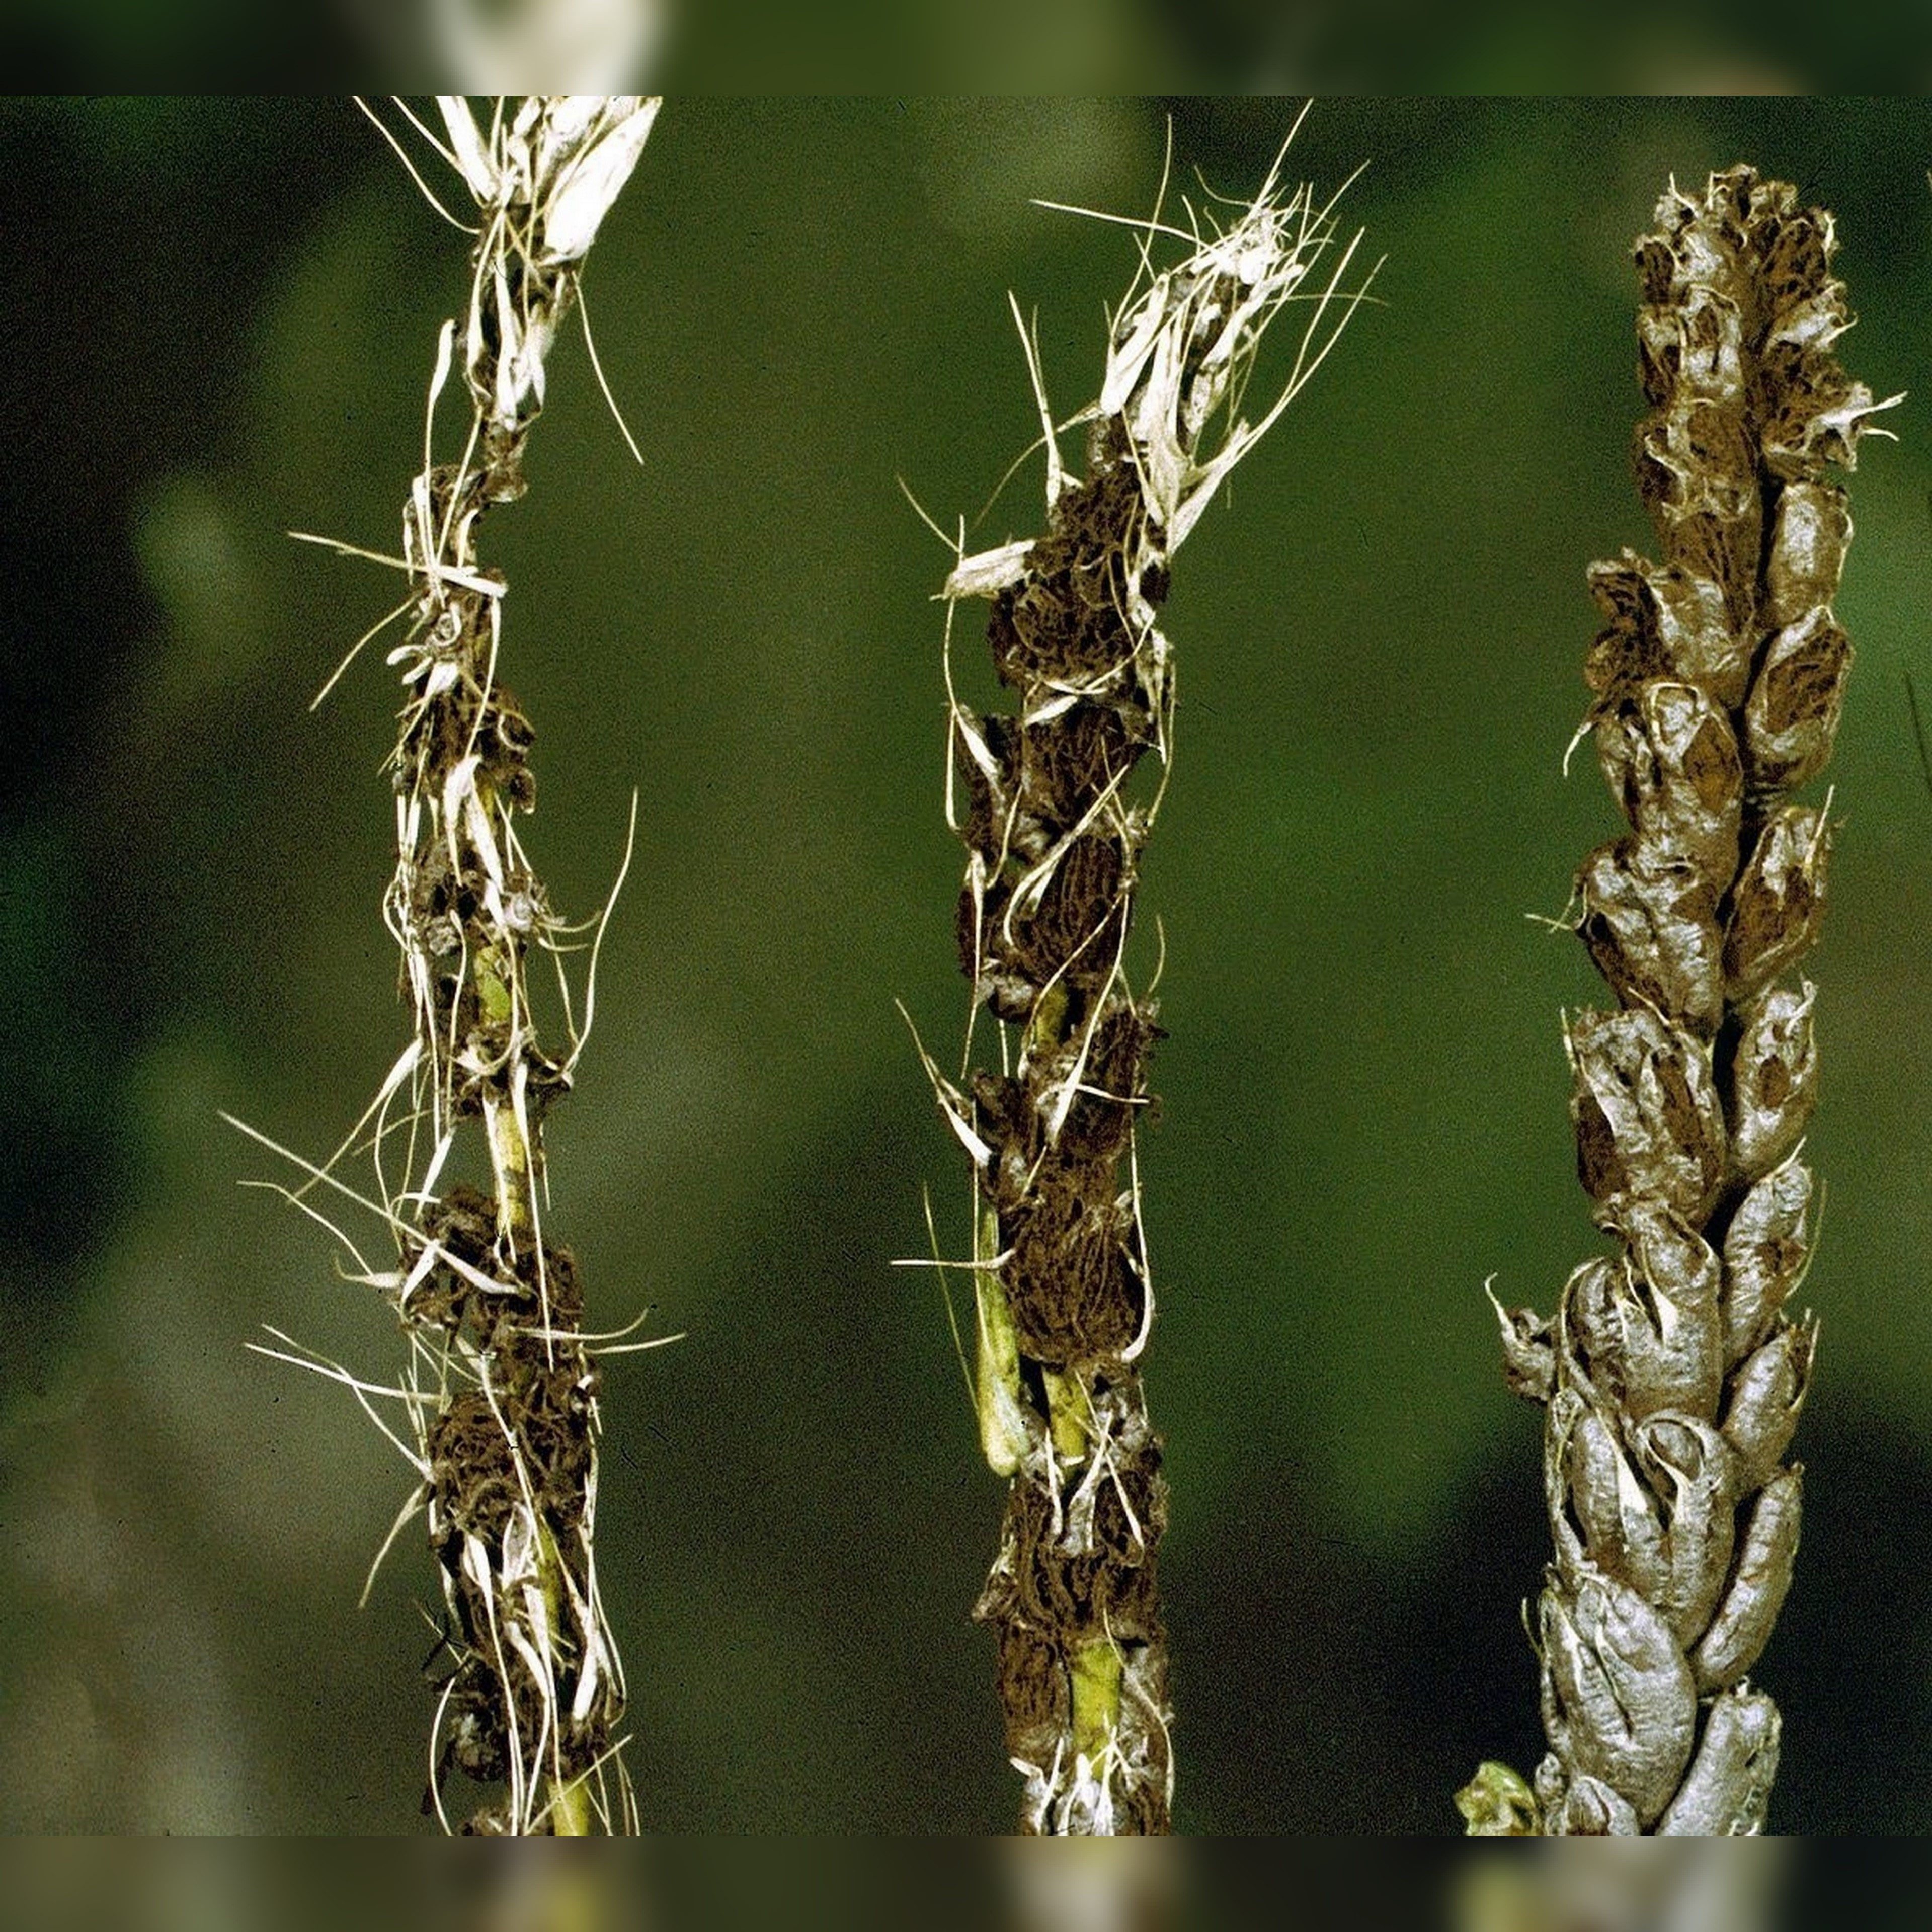Wheat Loose Smut: (869, 150, 1336, 1810)
